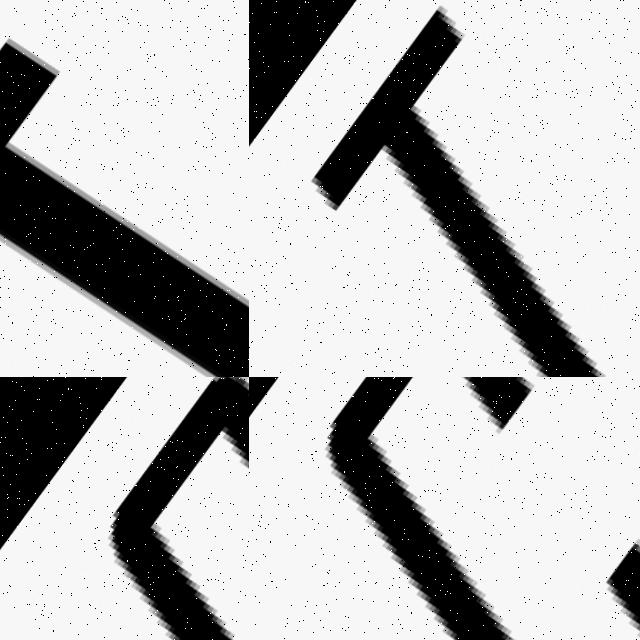C: (332, 377, 515, 640), (115, 378, 249, 640)
T: (249, 0, 640, 377), (0, 5, 249, 377)
